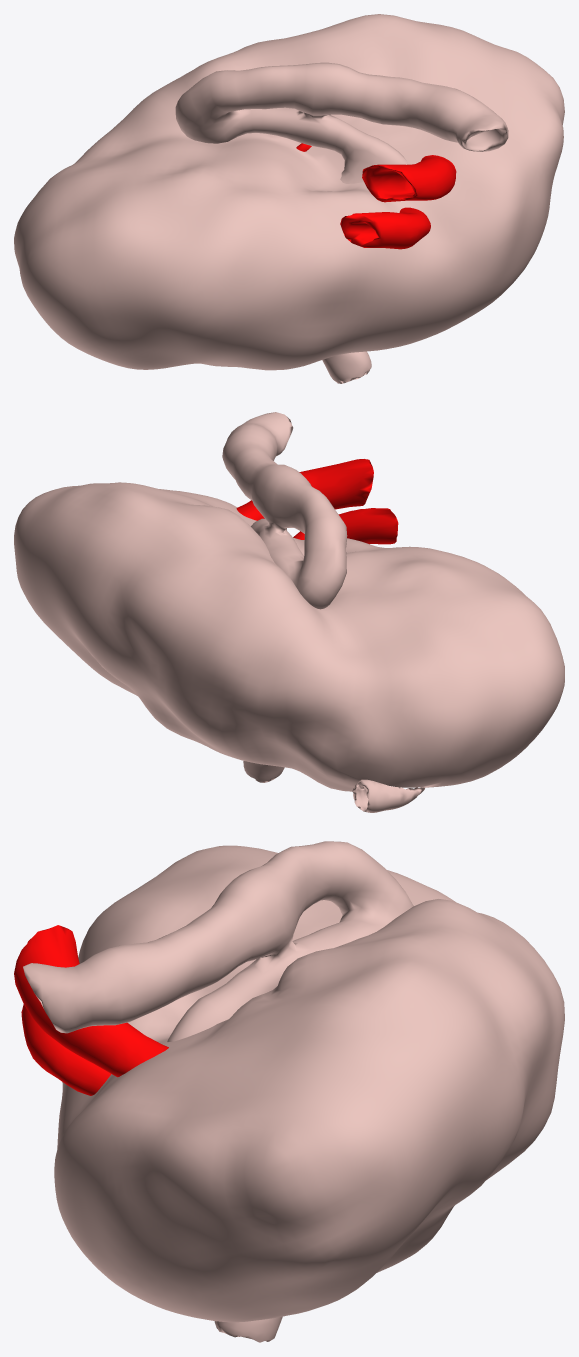
File: nih_f_lymph_node-100.glb
3 renders of one model, top to bottom at view 1: azimuth 30°, elevation 25°; view 2: azimuth 150°, elevation 25°; view 3: azimuth 270°, elevation 25°, orthographic. The views are drawn at different scales.
Visible parts, largest first — view 1: Yao_capsule_of_lymph_node, Yao_efferent_lymph_node, Yao_blood_vasculature, Yao_afferent_lymphatic_vessel; view 2: Yao_capsule_of_lymph_node, Yao_efferent_lymph_node, Yao_blood_vasculature, Yao_afferent_lymphatic_vessel; view 3: Yao_capsule_of_lymph_node, Yao_efferent_lymph_node, Yao_blood_vasculature, Yao_afferent_lymphatic_vessel.
Part boxes in pixels (bbox=[...]): Yao_capsule_of_lymph_node: bbox=[14, 14, 564, 370]; Yao_efferent_lymph_node: bbox=[175, 62, 508, 183]; Yao_blood_vasculature: bbox=[296, 143, 456, 249]; Yao_afferent_lymphatic_vessel: bbox=[322, 351, 371, 383]; Yao_capsule_of_lymph_node: bbox=[14, 482, 564, 791]; Yao_efferent_lymph_node: bbox=[222, 412, 347, 609]; Yao_blood_vasculature: bbox=[236, 459, 398, 544]; Yao_afferent_lymphatic_vessel: bbox=[243, 761, 424, 812]; Yao_capsule_of_lymph_node: bbox=[54, 845, 564, 1322]; Yao_efferent_lymph_node: bbox=[23, 841, 413, 1041]; Yao_blood_vasculature: bbox=[14, 925, 168, 1095]; Yao_afferent_lymphatic_vessel: bbox=[214, 1316, 282, 1342].
Bounding box in the file's own units: 0.0196 × 0.0113 × 0.0125.
